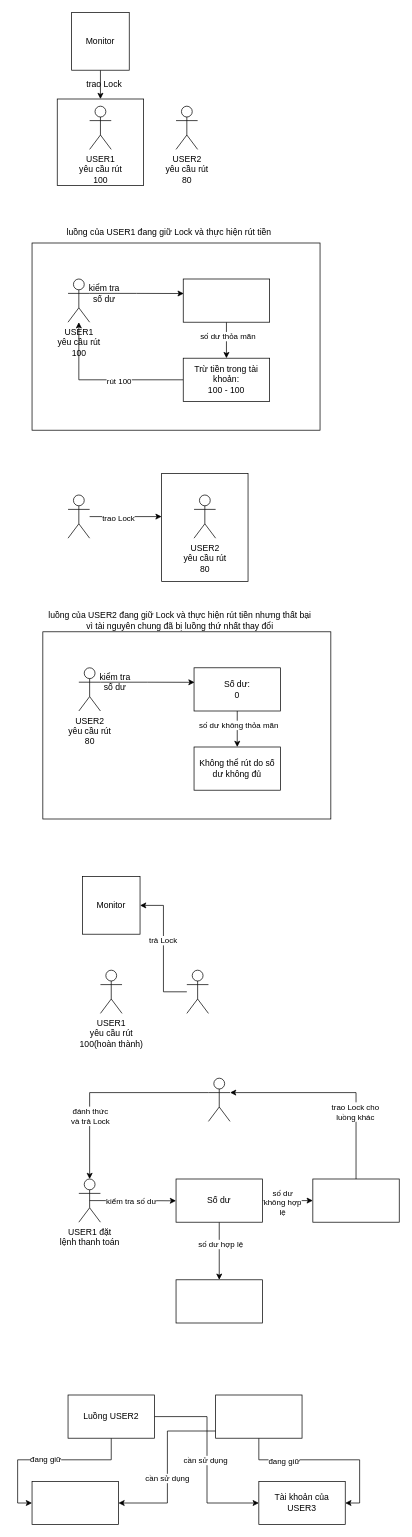
Image size: 412x1537. Some labels were removed from this diagram. Each missing label, with the centre of its shape:
"Luồng USER3" goes at point 258,1416.
"Số dư: 100" goes at point 226,300.
"Tiến hành thanh toán" goes at point 218,1301.
"Tài khoản của USER2" goes at point 74,1503.
"USER..." goes at point 219,1099.
"USER1 yêu cầu rút 100 (đã hoàn thành)" goes at point 78,516.
"USER2 yêu cầu rút 80(hoàn thành)" goes at point 197,991.
"Vào trạng thái ngủ" goes at point 355,1200.
